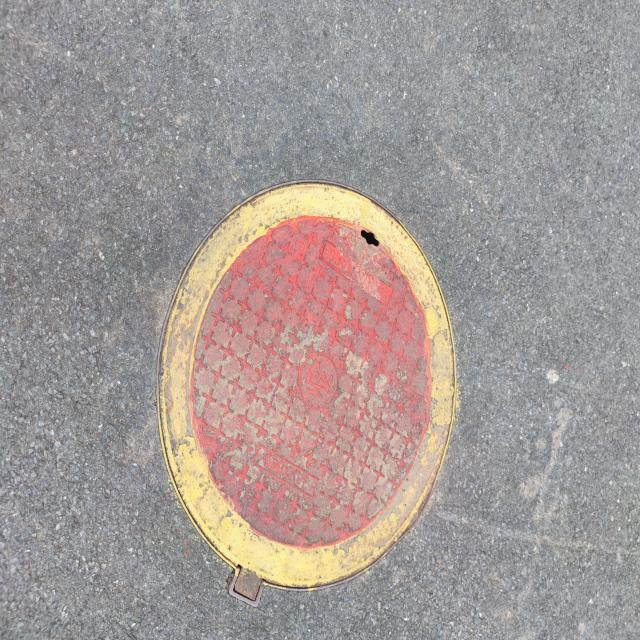Good: (151, 177, 460, 608)
